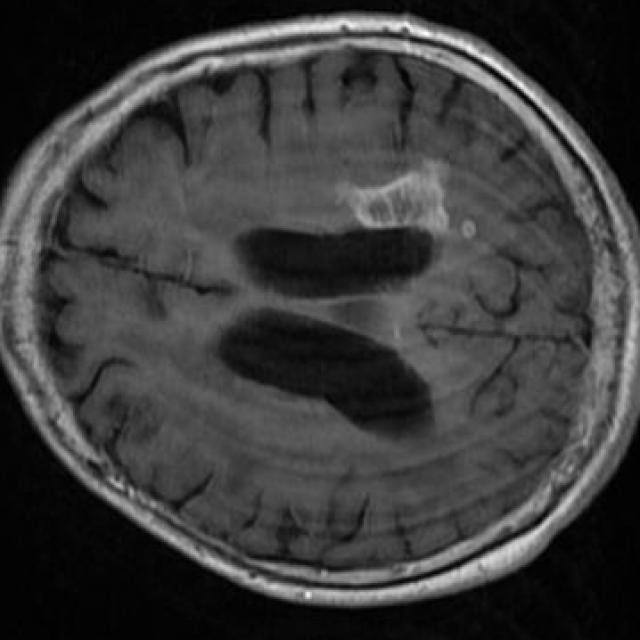glioma: (337, 160, 447, 232)
